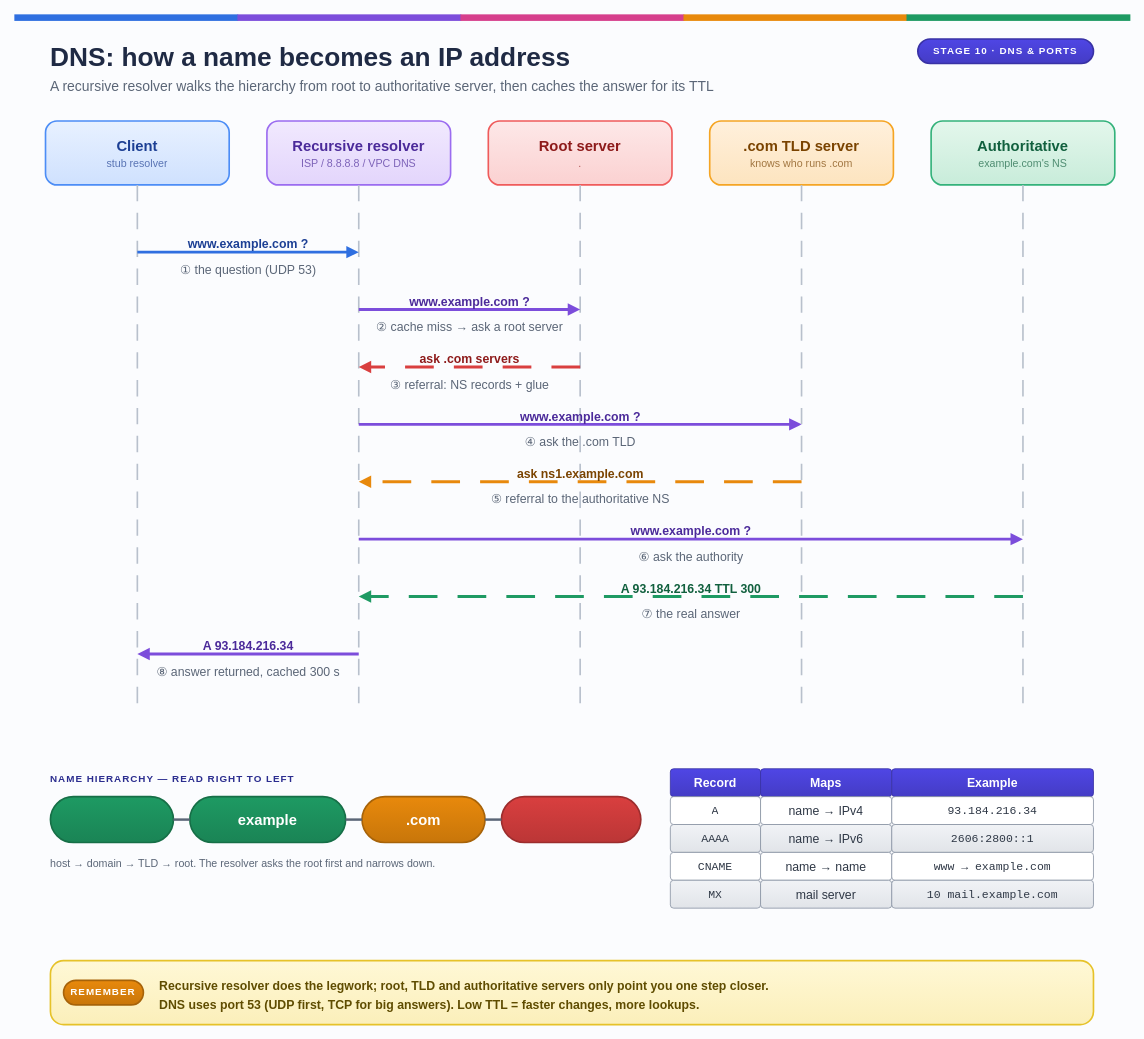
Some shapes in this 1144 by 1039 pixel diagram are drawn without their labels. The shapes that lost their labels are listed below. From the top down, each one's centre as x and y in pixels, then its label:
the point at 111,819: www
the point at 570,819: . (root)
